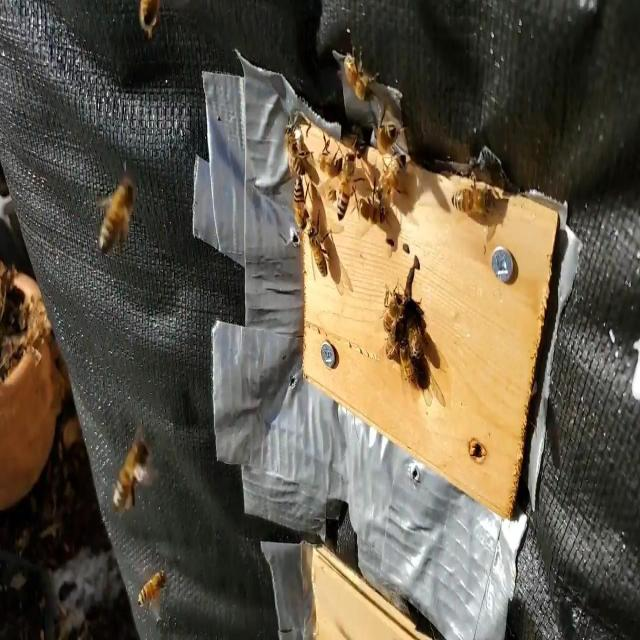honeybee: (128, 532, 182, 615), (447, 167, 503, 247), (99, 142, 136, 249), (107, 406, 156, 486), (337, 48, 378, 121), (353, 187, 390, 256), (304, 230, 333, 292), (144, 12, 169, 64), (375, 100, 404, 144), (271, 119, 296, 167), (372, 282, 399, 322), (386, 336, 407, 382), (412, 310, 432, 358), (328, 153, 346, 201), (390, 153, 412, 192), (289, 183, 302, 224)
